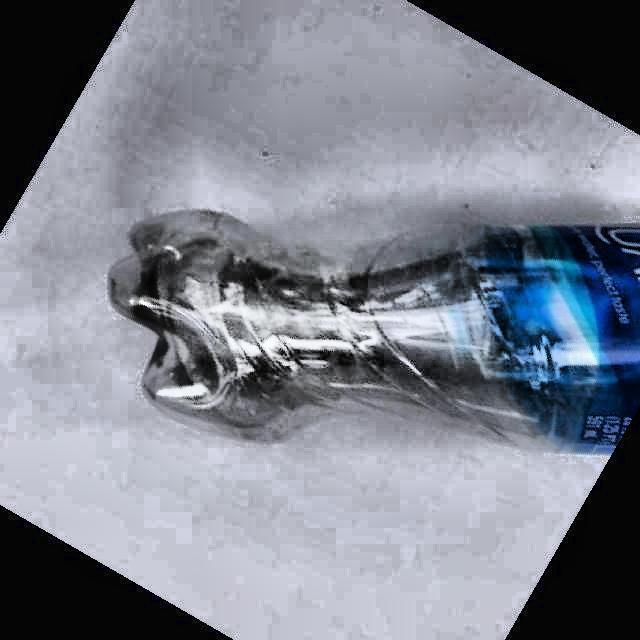plastic: (111, 211, 640, 452)
